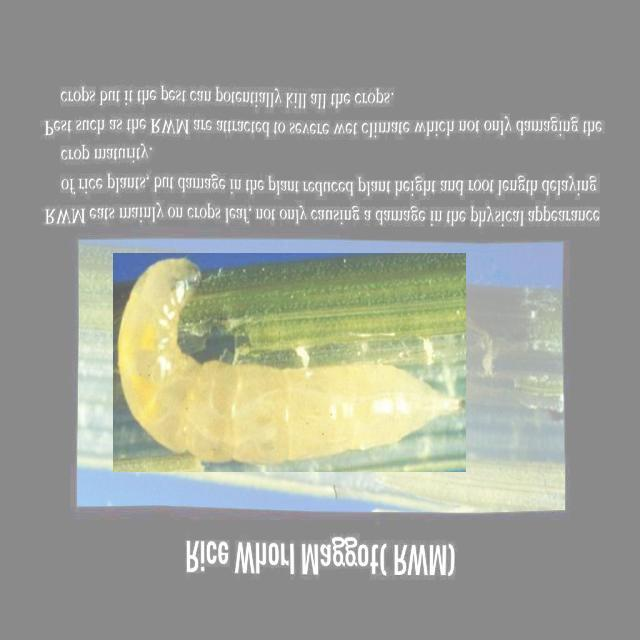whorl-maggot: (113, 253, 466, 472)
